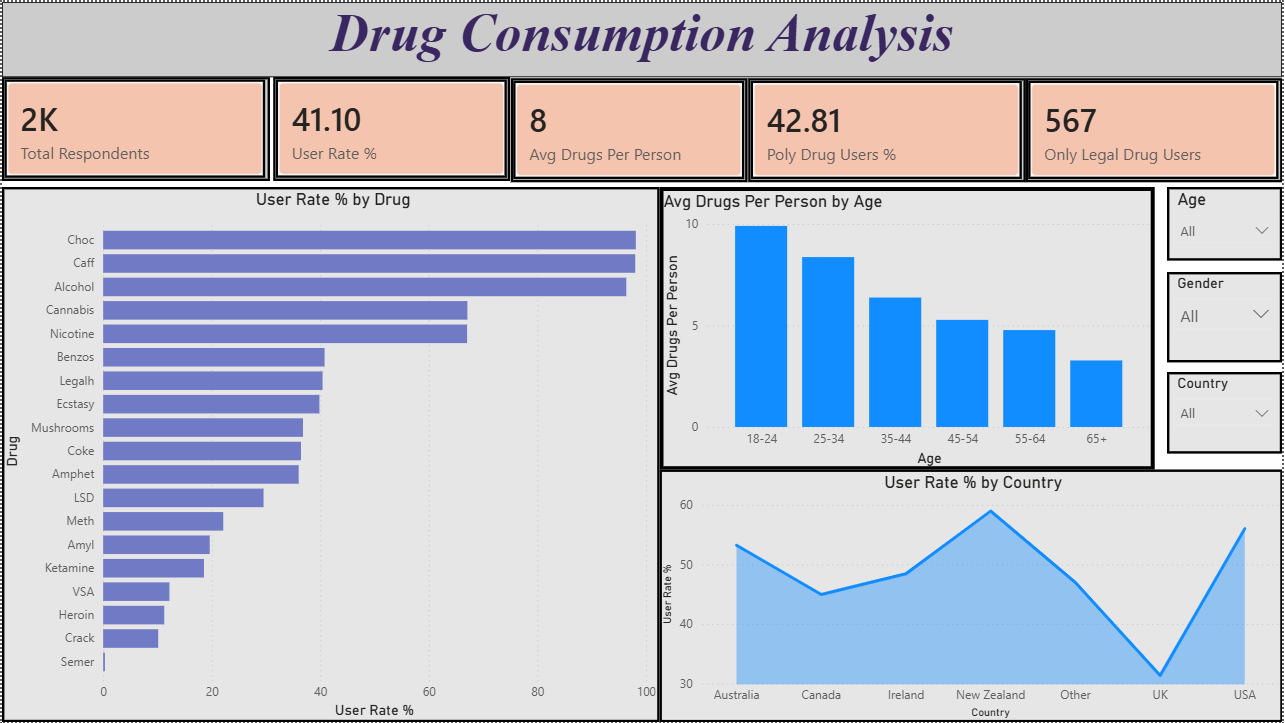

The page's visual inventory and layout, read from the dashboard file:
{"tool":"powerbi","page":{"name":"Page 4","canvas":[1280,720],"ordinal":0},"visuals":[{"type":"actionButton","box":[0,0,100,40],"z":0},{"type":"cardVisual","fields":{"Data":["Drug_PowerBI.Total Respondents"]},"box":[0,74.9,267.7,104],"z":1000},{"type":"textbox","box":[0,0,1280.3,75.5],"z":2000},{"type":"cardVisual","fields":{"Data":["Drug_PowerBI.Only Legal Drug Users"]},"box":[1023.7,76.3,256.6,104],"z":3000},{"type":"cardVisual","fields":{"Data":["Drug_PowerBI.Poly Drug Users %"]},"box":[746.3,76.3,277.4,104],"z":4000},{"type":"cardVisual","fields":{"Data":["Drug_PowerBI.Avg Drugs Per Person"]},"box":[509.1,76.3,237.2,104],"z":6000},{"type":"clusteredBarChart","fields":{"Y":["Drug_Long.User Rate %"],"Category":["Drug_Long.Drug"]},"box":[0,184.5,657.5,535.4],"z":7000},{"type":"slicer","fields":{"Values":["Drug_PowerBI.Age"]},"box":[1165.2,184.5,115.1,73.5],"z":8000},{"type":"slicer","fields":{"Values":["Drug_PowerBI.Gender"]},"box":[1165.2,270.5,115.1,90.2],"z":9000},{"type":"slicer","fields":{"Values":["Drug_PowerBI.Country"]},"box":[1165.2,370.4,115.1,81.8],"z":10000},{"type":"columnChart","fields":{"Category":["Drug_PowerBI.Age"],"Y":["Drug_PowerBI.Avg Drugs Per Person"]},"box":[657.5,184.5,495.2,283],"z":11000},{"type":"areaChart","fields":{"Category":["Drug_Long.Country"],"Y":["Drug_Long.User Rate %"]},"box":[657.5,467.4,622.8,252.4],"z":12000},{"type":"cardVisual","fields":{"Data":["Drug_Long.User Rate %"]},"box":[271.9,74.9,237.2,104],"z":12001}]}

Visuals, with their boxes in screenshot pixels (x1, y1, x2, y2), scaled from the page's 1280x720 canvas onto the 1285x723 screenshot:
actionButton: 0/0/100/40
cardVisual - Drug_PowerBI.Total Respondents: 0/75/269/180
textbox: 0/0/1284/76
cardVisual - Drug_PowerBI.Only Legal Drug Users: 1028/77/1284/181
cardVisual - Drug_PowerBI.Poly Drug Users %: 749/77/1028/181
cardVisual - Drug_PowerBI.Avg Drugs Per Person: 511/77/749/181
clusteredBarChart - Drug_Long.User Rate % x Drug_Long.Drug: 0/185/660/722
slicer - Drug_PowerBI.Age: 1170/185/1284/259
slicer - Drug_PowerBI.Gender: 1170/272/1284/362
slicer - Drug_PowerBI.Country: 1170/372/1284/454
columnChart - Drug_PowerBI.Age x Drug_PowerBI.Avg Drugs Per Person: 660/185/1157/469
areaChart - Drug_Long.Country x Drug_Long.User Rate %: 660/469/1284/722
cardVisual - Drug_Long.User Rate %: 273/75/511/180
